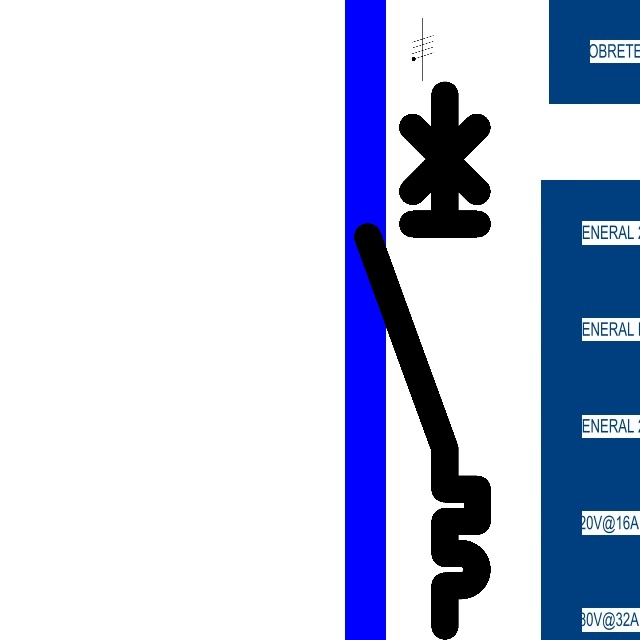interruptor_termomagnetico: (354, 81, 491, 640)
